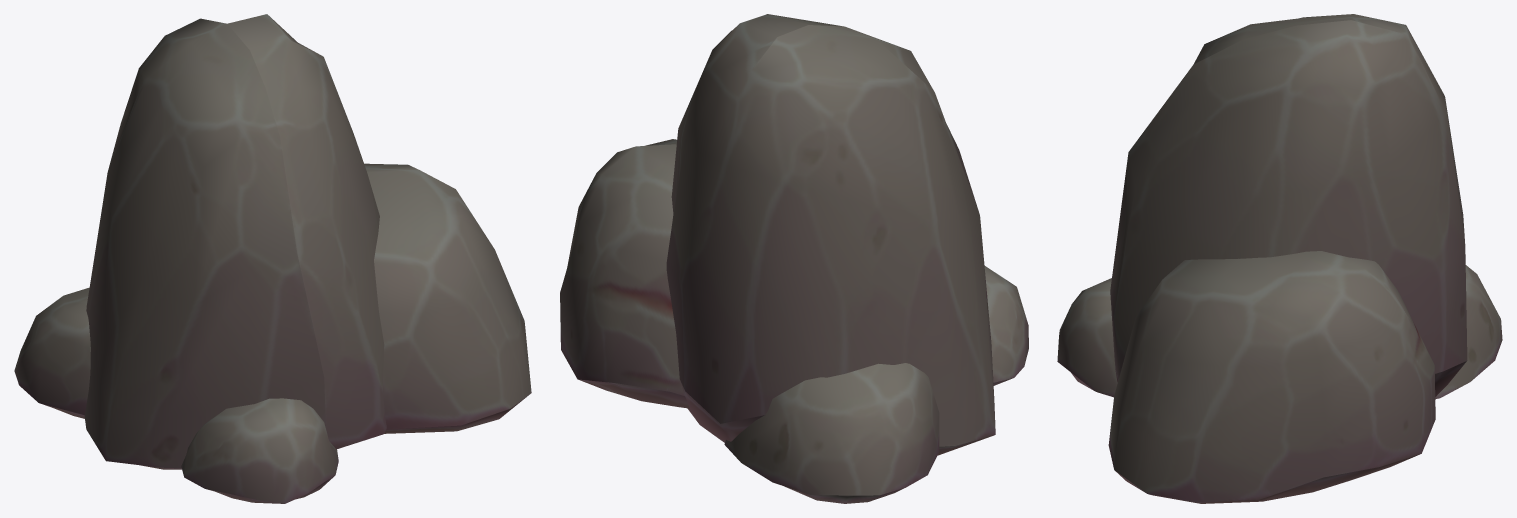
Rendered from cem_prop_rocks_02.fbx.
3 views of the same model, side by side, from view 1: azimuth 30°, elevation 25°; view 2: azimuth 150°, elevation 25°; view 3: azimuth 270°, elevation 25° (orthographic). The views are drawn at different scales.
Visible parts, largest first — view 1: cem_prop_rocks_02; view 2: cem_prop_rocks_02; view 3: cem_prop_rocks_02.
Part boxes in pixels (box(x1,y1,x2,y2)): cem_prop_rocks_02: box(14, 14, 531, 503); cem_prop_rocks_02: box(560, 14, 1028, 503); cem_prop_rocks_02: box(1057, 14, 1502, 503).
Size of the model in its own units: 88.14 by 80.94 by 82.44.
Materials: 1 (1 with a texture image).
